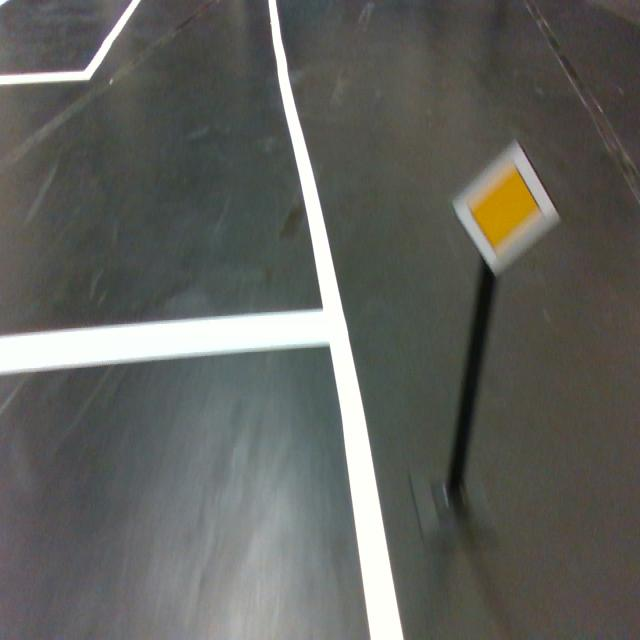priority-sign: (448, 136, 564, 281)
